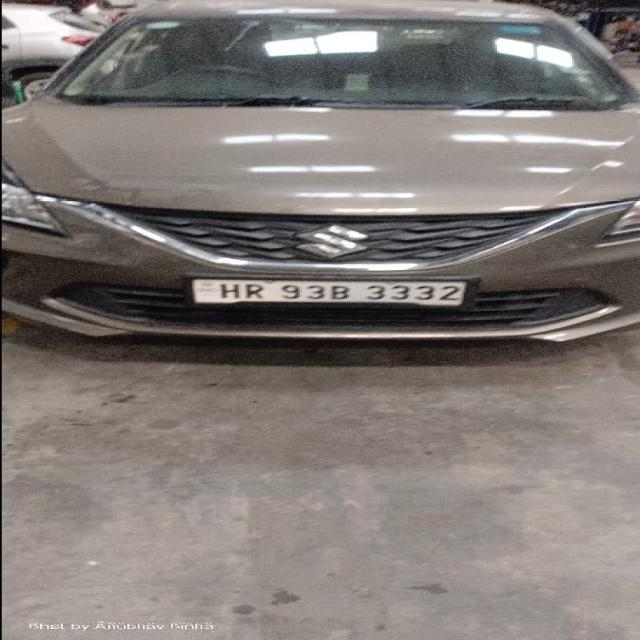license_plate: (187, 276, 472, 308)
